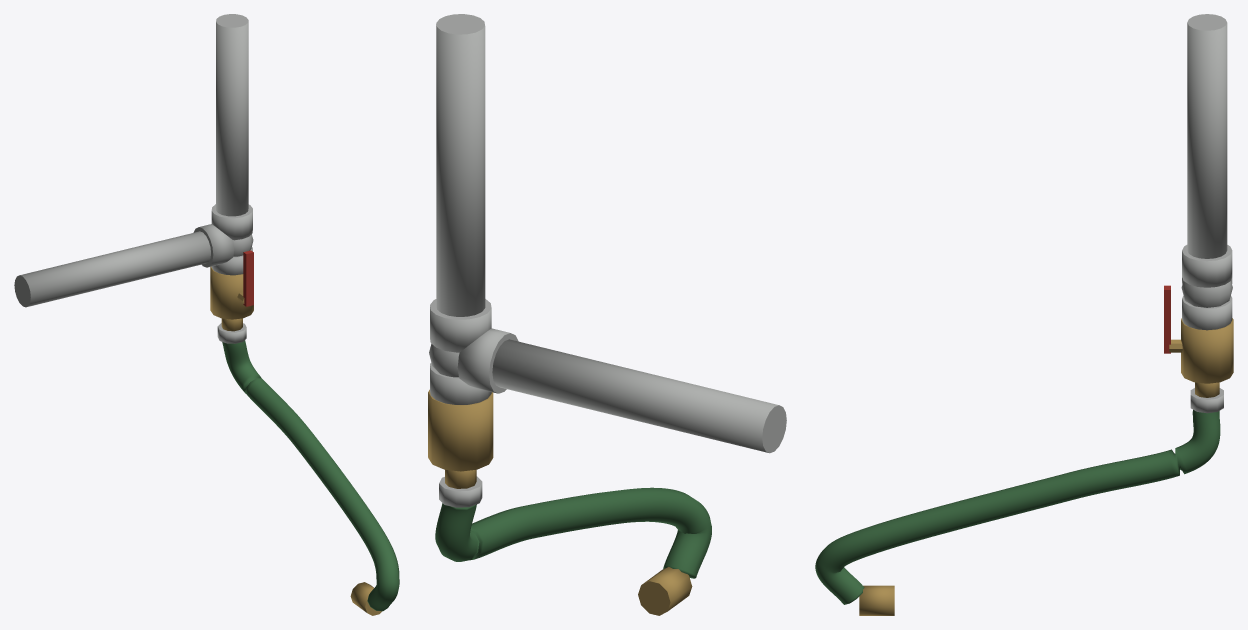
Rendered from barrel_fill_low_front3.obj.
The picture shows the model from 3 angles, left to right: view 1: azimuth 30°, elevation 25°; view 2: azimuth 150°, elevation 25°; view 3: azimuth 270°, elevation 25°; orthographic projection. The views are drawn at different scales.
Visible parts, largest first — view 1: hose, pipe4, pipe8, valve_body, elbow_socket4, elbow_socket8, valve_lever, nozzle; view 2: pipe4, pipe8, hose, valve_body, elbow_socket8, elbow_socket4, nozzle, elbow_socket1, hose_collar, elbow_hub, hose_barb; view 3: hose, pipe4, valve_body, elbow_socket4, elbow_socket1, nozzle, elbow_hub, hose_collar.
Boxes of the visible parts, left/top/right/bottom form: hose: left=222, top=340, right=399, bottom=611; pipe4: left=216, top=14, right=248, bottom=216; pipe8: left=14, top=231, right=210, bottom=307; valve_body: left=210, top=266, right=253, bottom=319; elbow_socket4: left=211, top=204, right=252, bottom=240; elbow_socket8: left=193, top=224, right=234, bottom=267; valve_lever: left=243, top=250, right=253, bottom=306; nozzle: left=350, top=582, right=381, bottom=615; pipe4: left=436, top=14, right=485, bottom=316; pipe8: left=492, top=339, right=786, bottom=453; hose: left=435, top=487, right=711, bottom=578; valve_body: left=428, top=389, right=493, bottom=471; elbow_socket8: left=457, top=328, right=518, bottom=393; elbow_socket4: left=430, top=299, right=491, bottom=352; nozzle: left=638, top=567, right=692, bottom=615; elbow_socket1: left=430, top=363, right=491, bottom=404; hose_collar: left=439, top=476, right=482, bottom=507; elbow_hub: left=429, top=344, right=459, bottom=377; hose_barb: left=445, top=469, right=476, bottom=488; hose: left=815, top=410, right=1220, bottom=604; pipe4: left=1187, top=14, right=1227, bottom=258; valve_body: left=1181, top=318, right=1233, bottom=383; elbow_socket4: left=1182, top=245, right=1232, bottom=287; elbow_socket1: left=1182, top=295, right=1232, bottom=330; nozzle: left=859, top=585, right=894, bottom=615; elbow_hub: left=1181, top=281, right=1232, bottom=307; hose_collar: left=1190, top=388, right=1223, bottom=413.
Size of the model in its own units: 0.5528 by 1.11 by 0.7142.
4 materials, 4 textured.
